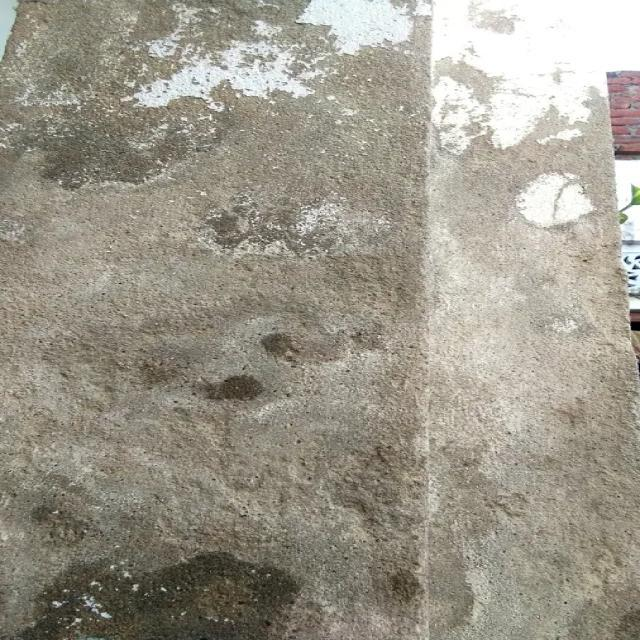stain_mould: (424, 4, 601, 155), (29, 556, 299, 639), (136, 10, 324, 111), (300, 2, 411, 53), (516, 174, 589, 223)
